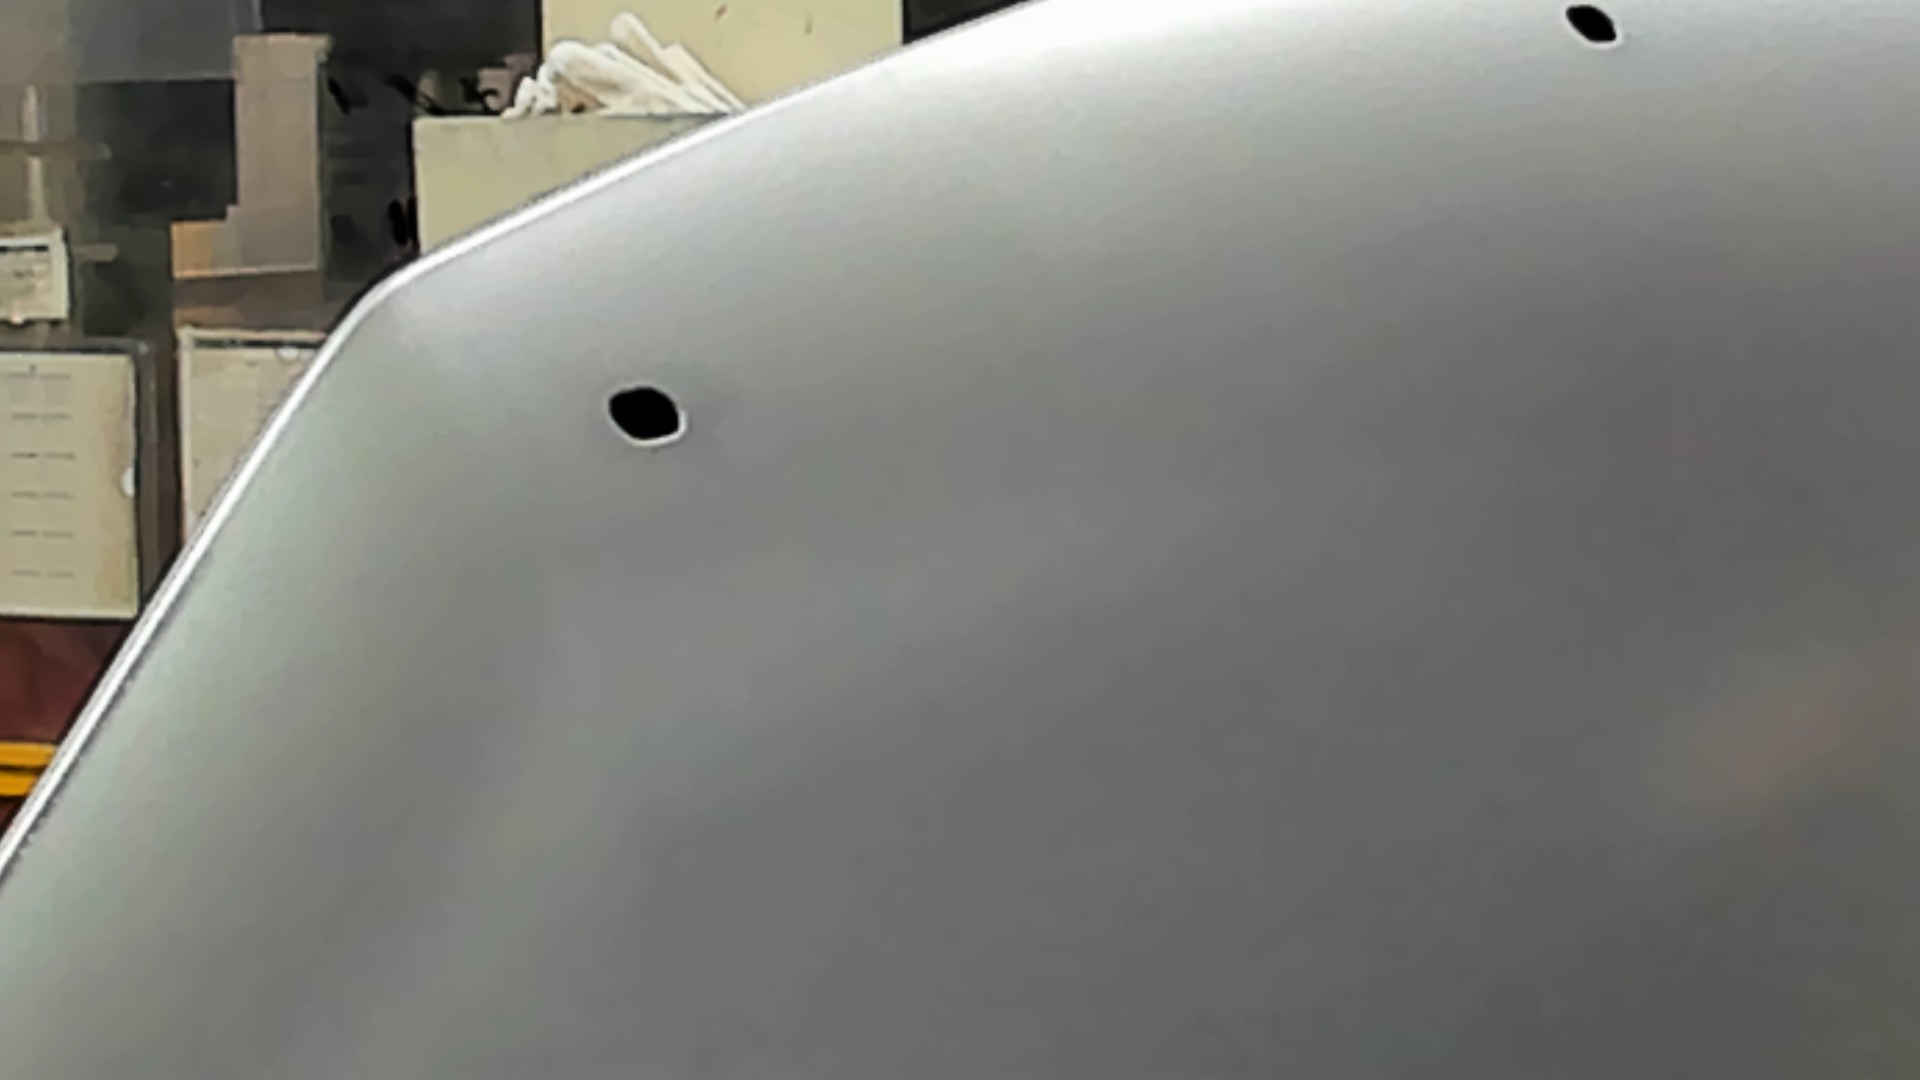amorfo: (592, 375, 705, 455), (1552, 1, 1634, 50)
capo: (829, 111, 1920, 1080)
